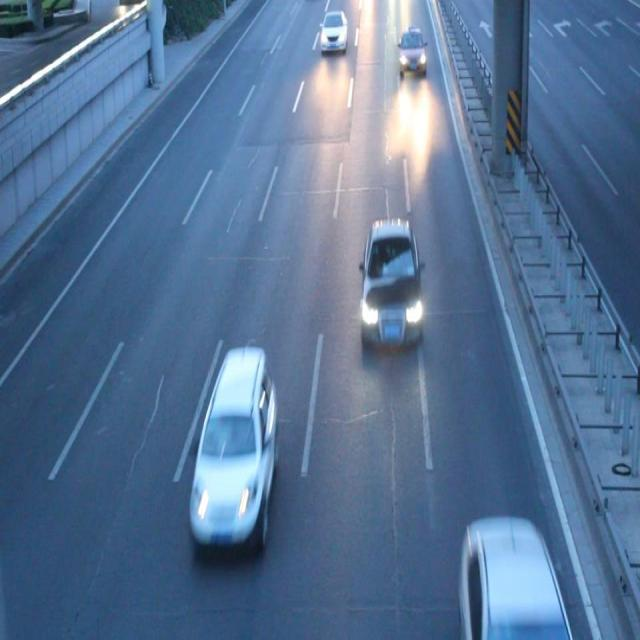car: (186, 350, 275, 542), (358, 220, 422, 348), (397, 30, 426, 80), (320, 11, 347, 53)
